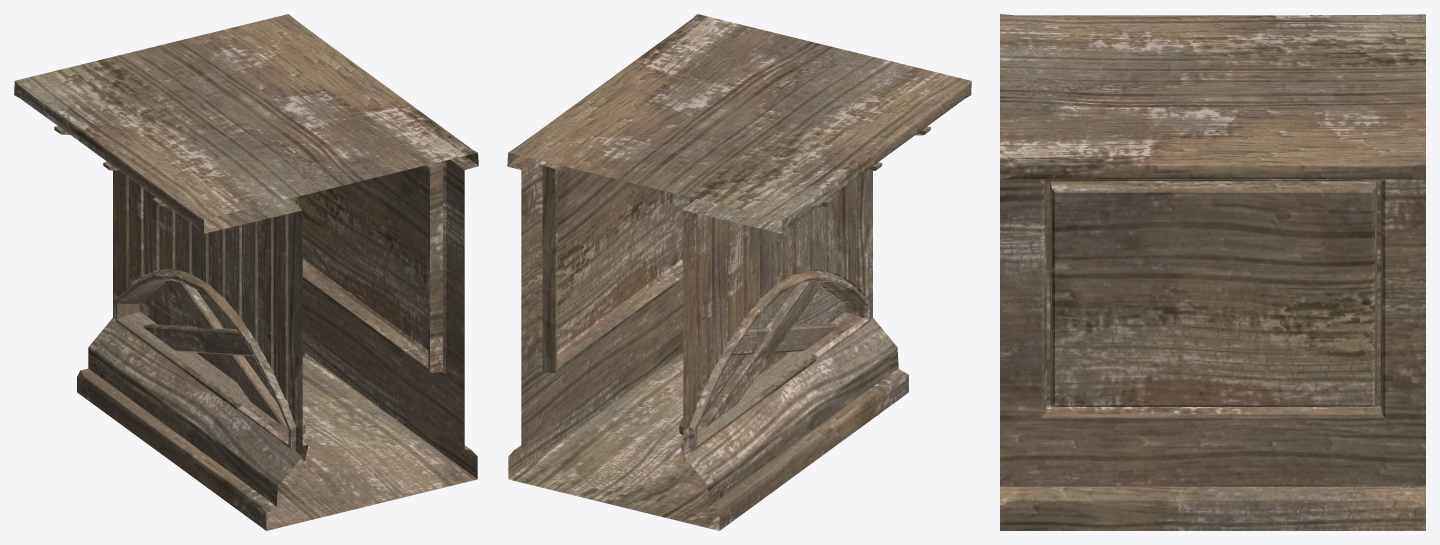
File: SM_Counter_01.fbx
The picture shows the model from 3 angles, left to right: view 1: azimuth 30°, elevation 25°; view 2: azimuth 150°, elevation 25°; view 3: azimuth 270°, elevation 25°; orthographic projection. The views are drawn at different scales.
Visible parts, largest first — view 1: SM_Counter_01_LOD0; view 2: SM_Counter_01_LOD0; view 3: SM_Counter_01_LOD0.
Boxes of the visible parts, x1=… form: SM_Counter_01_LOD0: x1=14, y1=14, x2=478, y2=530; SM_Counter_01_LOD0: x1=507, y1=14, x2=971, y2=530; SM_Counter_01_LOD0: x1=1000, y1=14, x2=1425, y2=530.
Bounding box in the file's own units: 84.65 × 100 × 95.09.
